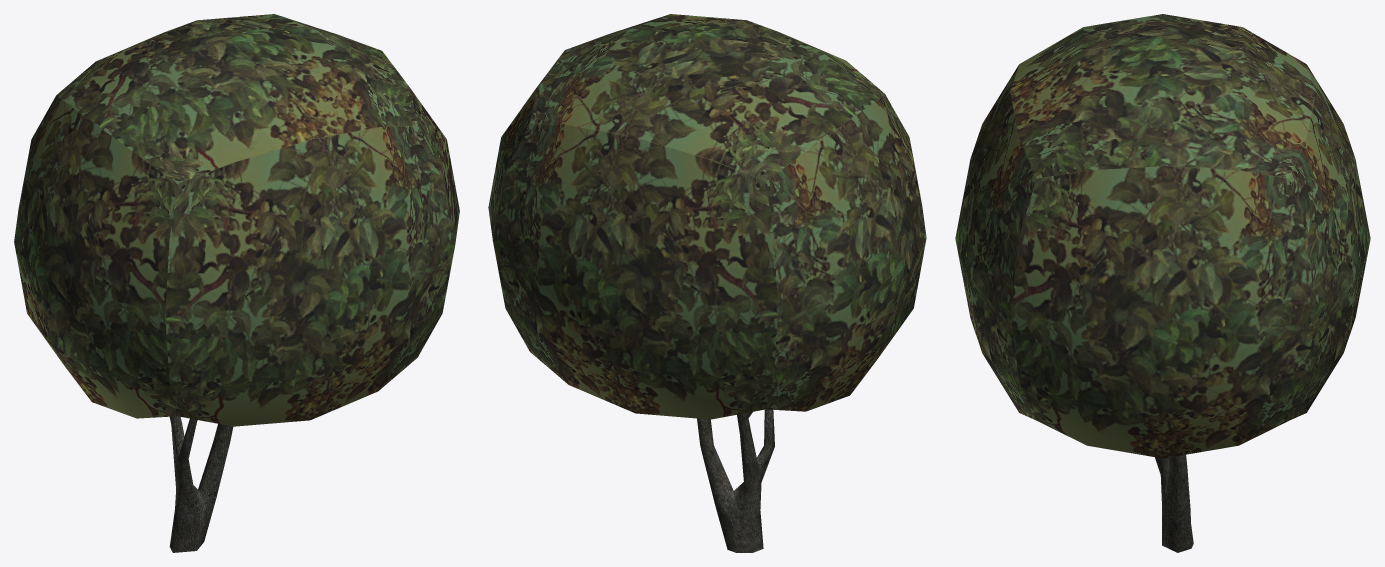
Rendered from SmallerTree.fbx.
3 views of the same model, side by side, from view 1: azimuth 30°, elevation 25°; view 2: azimuth 150°, elevation 25°; view 3: azimuth 270°, elevation 25° (orthographic). The views are drawn at different scales.
Visible parts, largest first — view 1: SmallerTree.001; view 2: SmallerTree.001; view 3: SmallerTree.001.
Boxes of the visible parts, x1,y1,x2,y2 form: SmallerTree.001: (14,14,459,552); SmallerTree.001: (488,14,926,552); SmallerTree.001: (955,14,1370,552).
Bounding box in the file's own units: 4.62 × 5.65 × 4.04.
2 materials, 2 textured.
